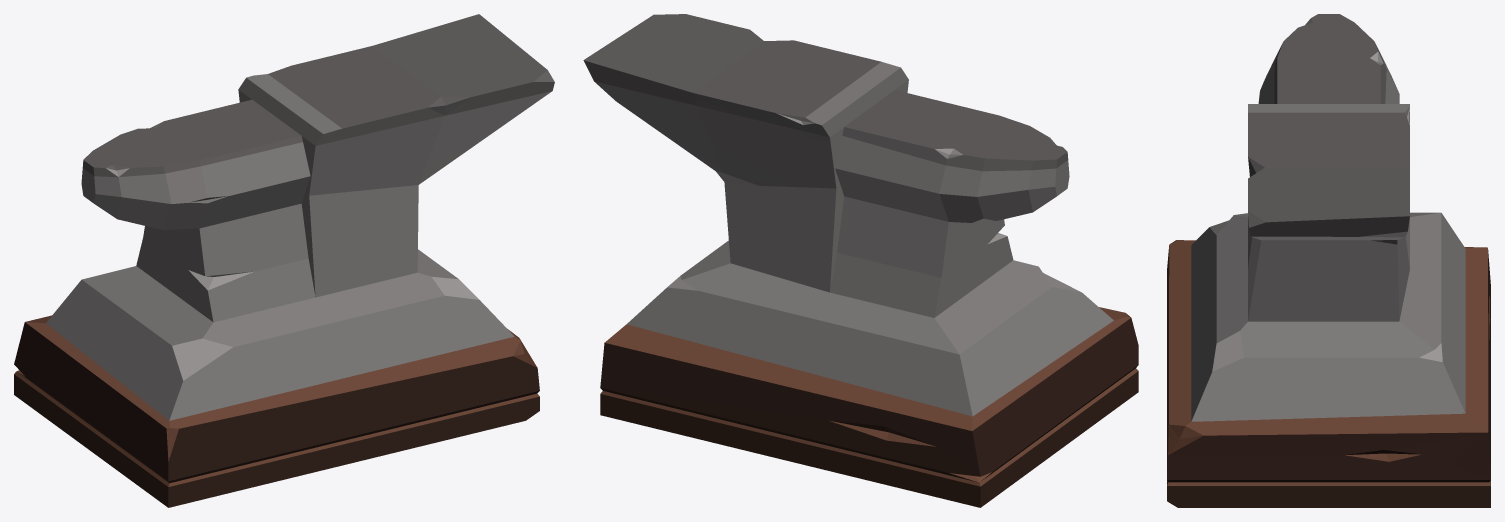
Rendered from Anvil_01.glb.
The picture shows the model from 3 angles, left to right: view 1: azimuth 30°, elevation 25°; view 2: azimuth 150°, elevation 25°; view 3: azimuth 270°, elevation 25°; orthographic projection. The views are drawn at different scales.
Parts seen in each view (by area): view 1: Anvil_01; view 2: Anvil_01; view 3: Anvil_01.
Part boxes in pixels (x1=…): Anvil_01: x1=14, y1=14, x2=554, y2=507; Anvil_01: x1=583, y1=14, x2=1138, y2=507; Anvil_01: x1=1167, y1=14, x2=1490, y2=507.
Size of what is drawn, in the model's own units: 1.13 by 0.7678 by 0.7046.
Materials: 1 (1 with a texture image).
